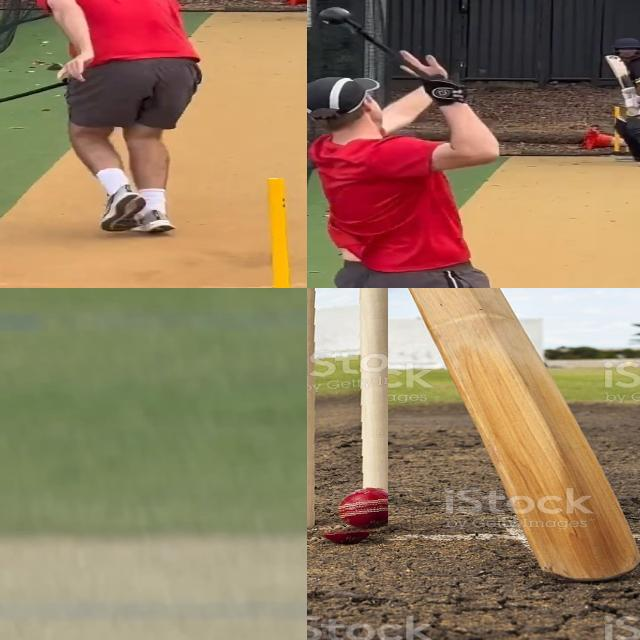Cricket ball: (312, 498, 381, 548)
Stumps: (307, 288, 388, 545), (247, 177, 307, 288)
